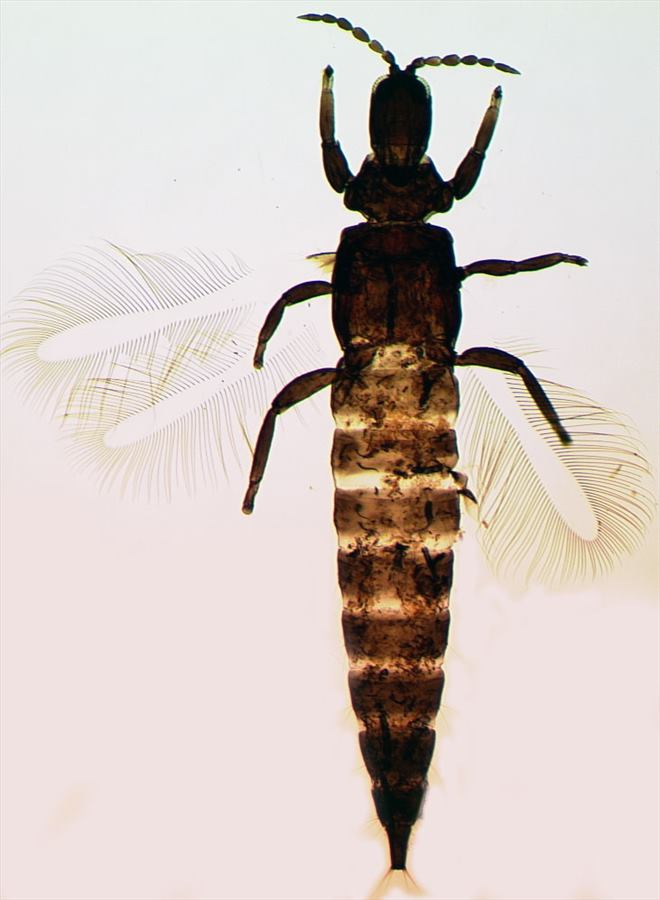Phlaeothripidae: (2, 13, 660, 894)
